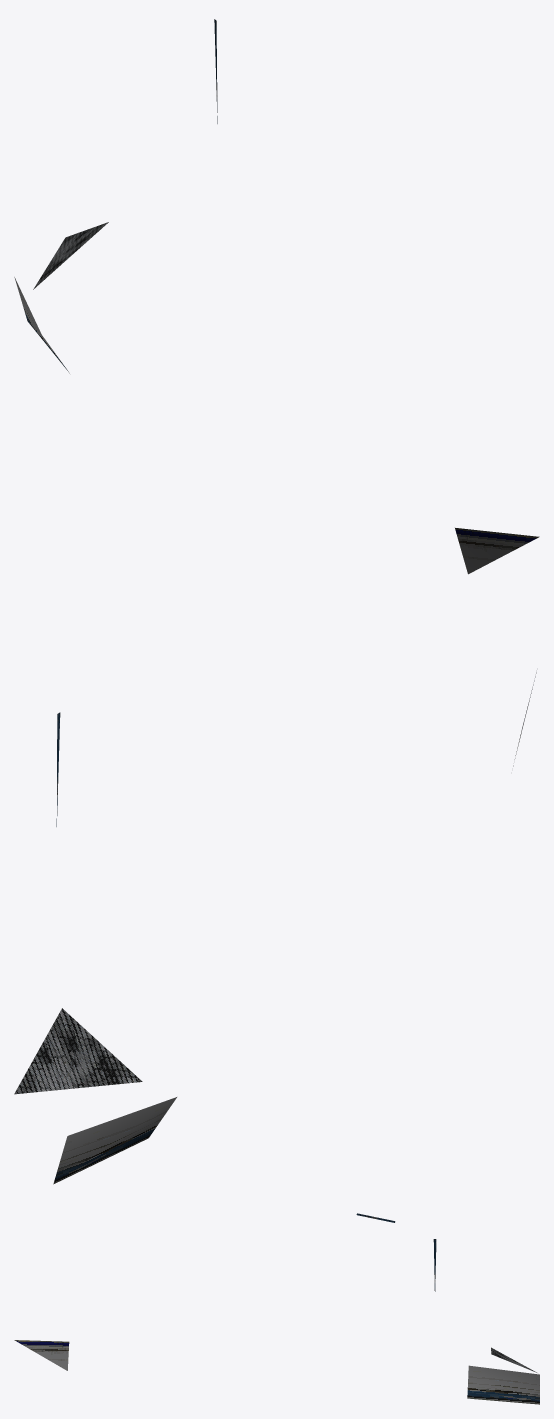
The model's file is world_camden_19_-1.gltf.
3 renders of one model, top to bottom at view 1: azimuth 30°, elevation 25°; view 2: azimuth 150°, elevation 25°; view 3: azimuth 270°, elevation 25°, orthographic. The views are drawn at different scales.
Bounding box in the file's own units: 2.93 × 7.59 × 16.72.
2 materials, 2 textured.
